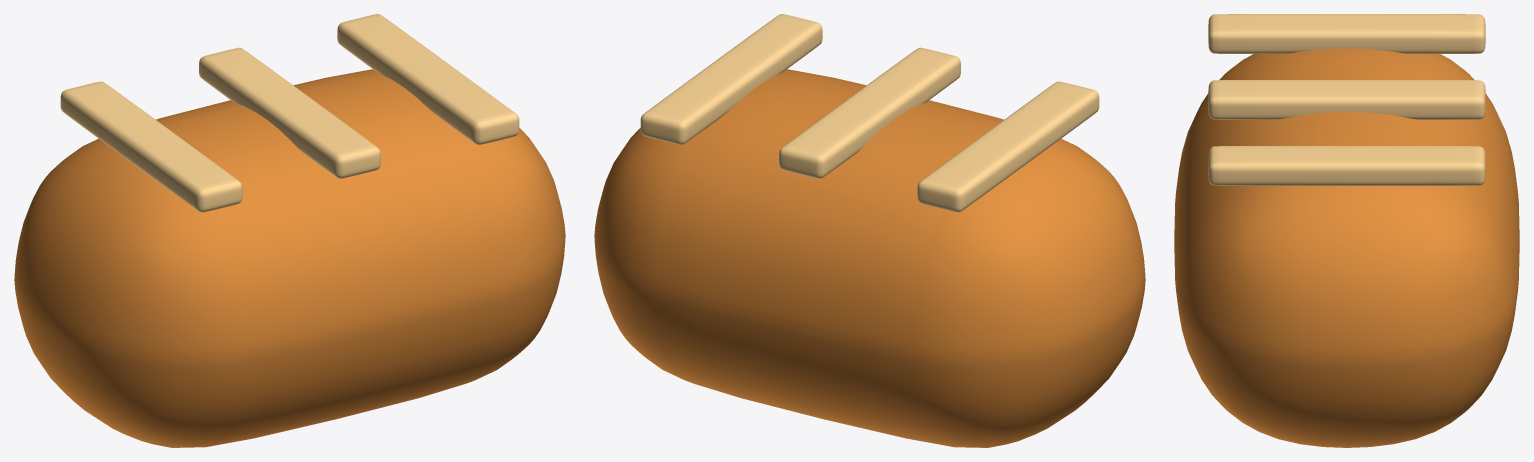
The model's file is Bread.glb.
3 views of the same model, side by side, from view 1: azimuth 30°, elevation 25°; view 2: azimuth 150°, elevation 25°; view 3: azimuth 270°, elevation 25° (orthographic). The views are drawn at different scales.
Visible parts, largest first — view 1: Cube, Cube.001, Cube.003, Cube.002; view 2: Cube, Cube.001, Cube.003, Cube.002; view 3: Cube, Cube.003, Cube.001, Cube.002.
Part boxes in pixels (x1,y1,x2,y2): Cube: (14, 69, 565, 447); Cube.001: (60, 81, 242, 212); Cube.003: (337, 14, 519, 144); Cube.002: (199, 47, 380, 178); Cube: (594, 69, 1145, 447); Cube.001: (917, 81, 1099, 212); Cube.003: (640, 14, 822, 144); Cube.002: (779, 47, 960, 178); Cube: (1174, 48, 1519, 447); Cube.003: (1208, 146, 1485, 185); Cube.001: (1208, 14, 1485, 53); Cube.002: (1208, 80, 1485, 119).
Size of the model in its own units: 0.3193 by 0.1871 by 0.1993.
